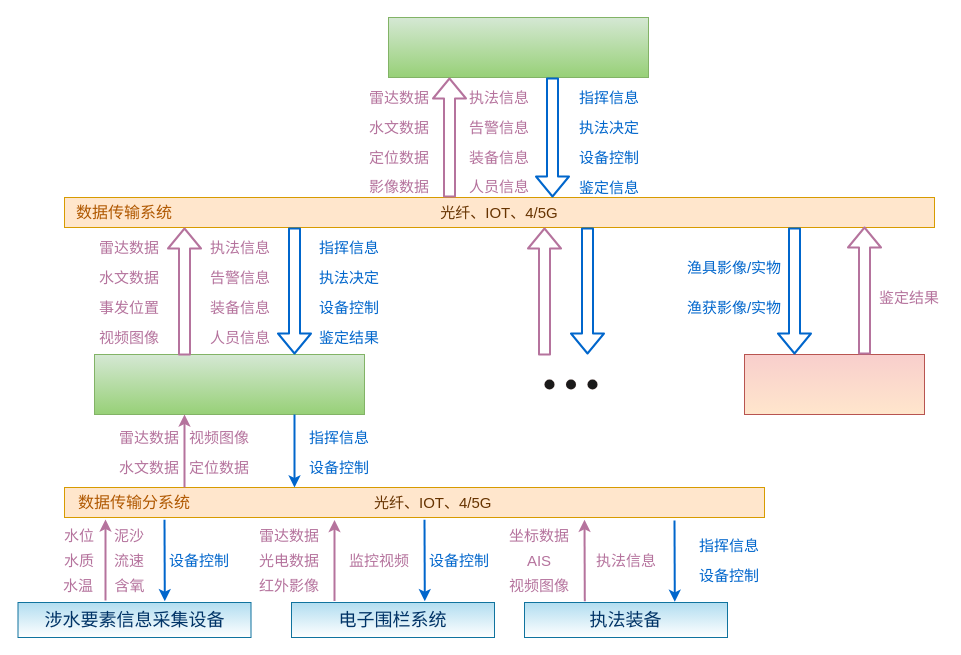
The diagram is 961 pixels wide and 655 high, and some of its shapes have lost their labels. The centre of each missing label's shape, as x and y in pixels:
渔具鱼类鉴定中心: point (834, 384)
综合管理平台 （指挥中心）: point (518, 47)
综合管理平台 （综合执法执勤点）: point (229, 384)
